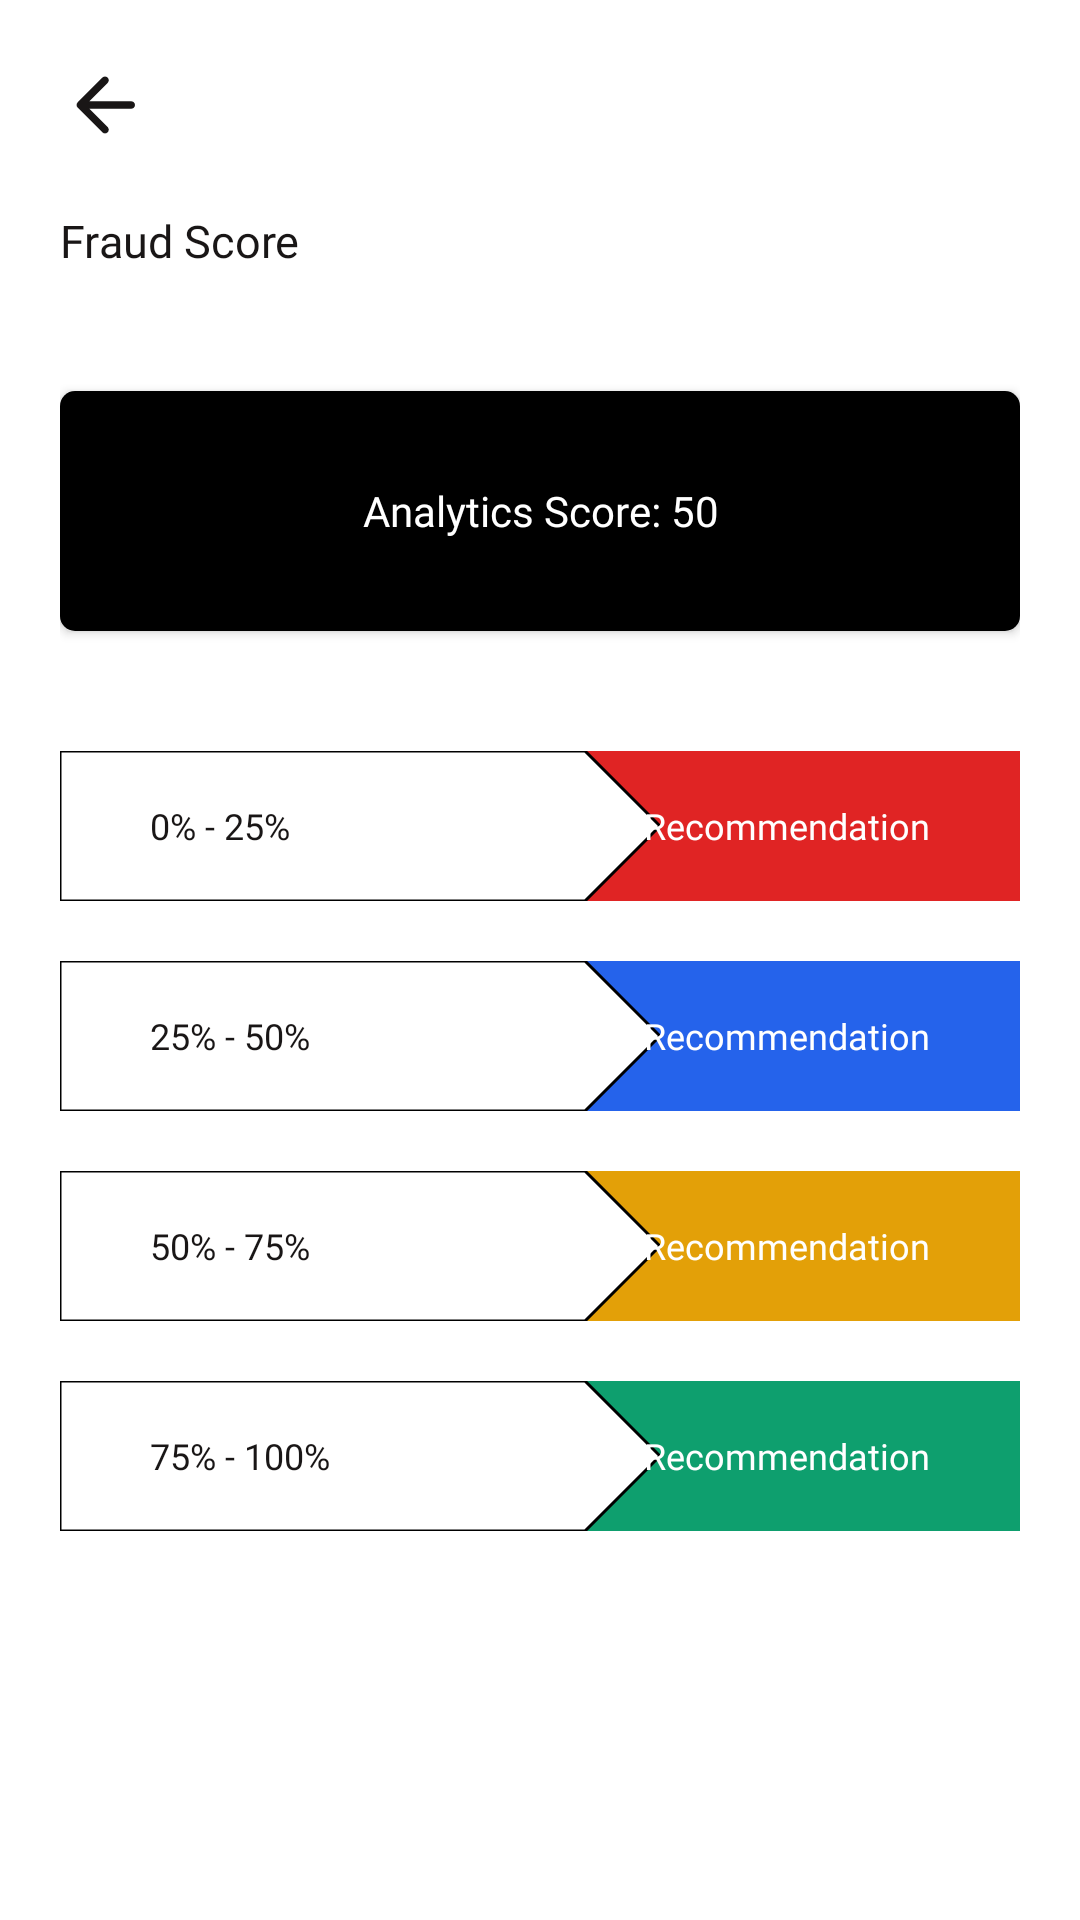

Named icons in this screenshot (1080 x 1920) and their centers, (x,y):
arrow left: (105,105)
